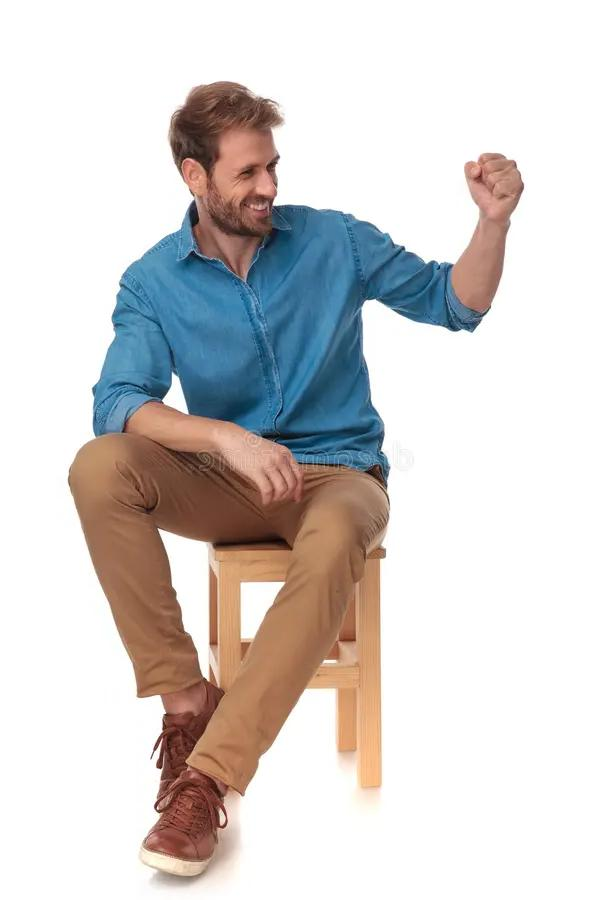long sleeve shirt: (91, 195, 492, 484)
trousers: (66, 428, 391, 802)
